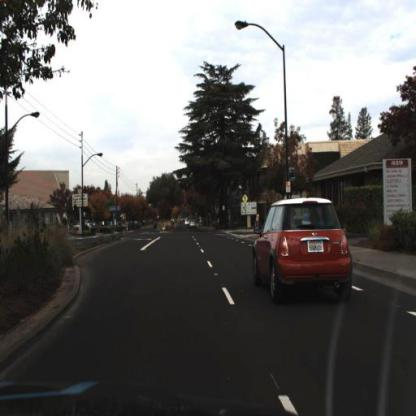car: (253, 197, 354, 306), (189, 217, 199, 230), (190, 220, 199, 230)
